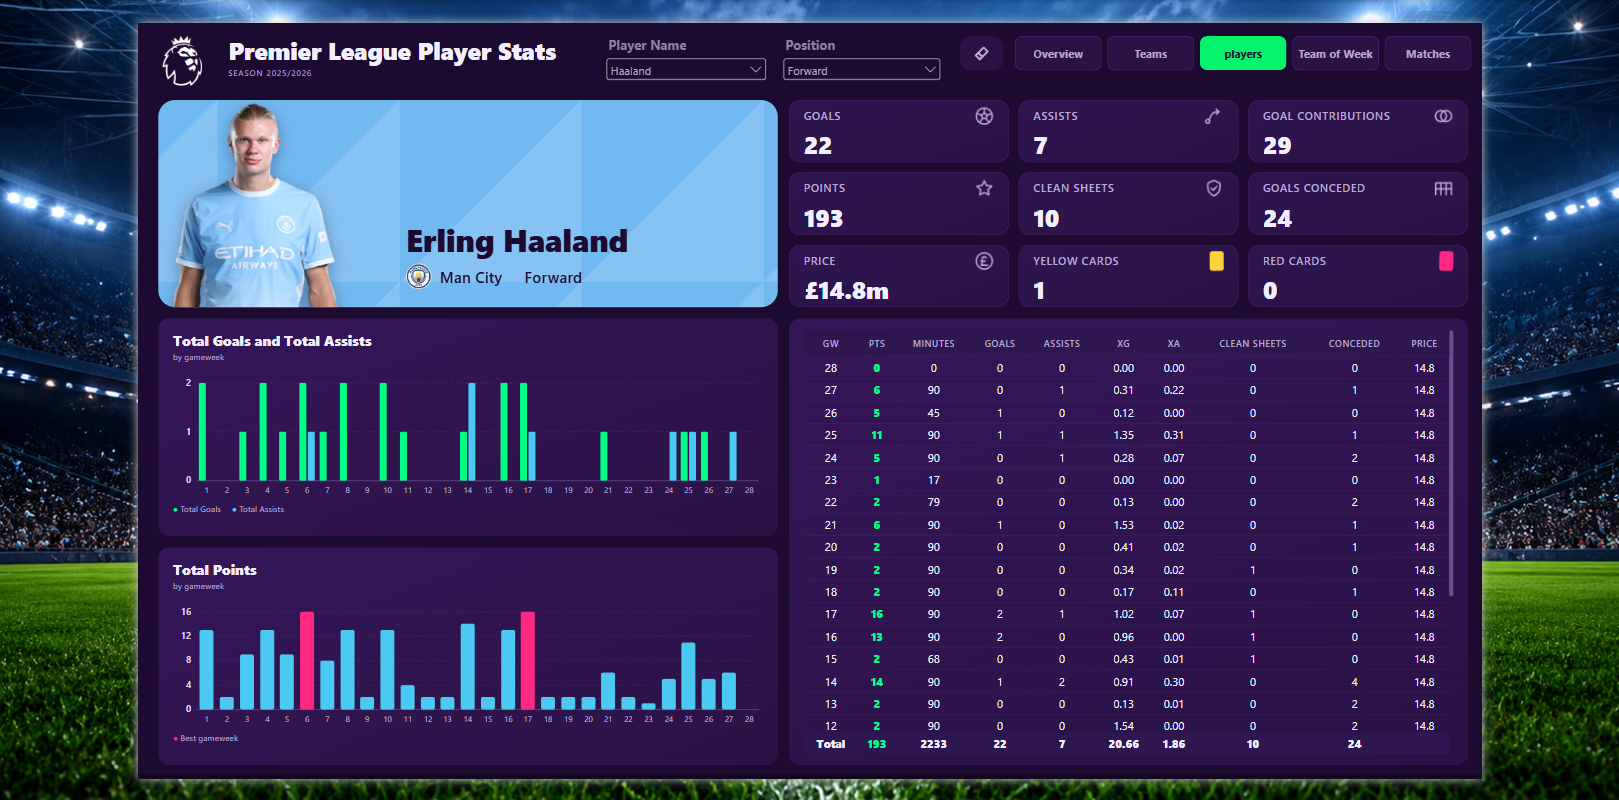

The dashboard page shown, as its layout file describes it:
{"tool":"powerbi","page":{"name":"players","canvas":[1920,1080],"ordinal":3},"visuals":[{"type":"htmlContent443BE3AD55E043BF878BED274D3A6855","fields":{"content":["Html.HTML Players Page 3"]},"box":[0,0,1919,1081],"z":0},{"type":"slicer","fields":{"Values":["Players Dim.Position"]},"box":[916.9,18.5,233.8,77.5],"z":1000},{"type":"slicer","fields":{"Values":["Players Dim.web_name"]},"box":[664.6,18.5,237.5,77.5],"z":2000},{"type":"actionButton","box":[1173.7,18.2,61.6,49.5],"z":4000},{"type":"image","box":[13.8,18.5,98.5,70.8],"z":5000},{"type":"pageNavigator","box":[1252.5,18.2,652,49],"z":6000}]}

Visuals, with their boxes on the page's 1920x1080 design canvas (x1, y1, x2, y2). These are canvas units, not pixel positions in the 1619x800 screenshot, which may show the page scaled, cropped or inside an application window:
htmlContent443BE3AD55E043BF878BED274D3A6855 - Html.HTML Players Page 3: [0,0,1919,1081]
slicer - Players Dim.Position: [917,18,1151,96]
slicer - Players Dim.web_name: [665,18,902,96]
actionButton: [1174,18,1235,68]
image: [14,18,112,89]
pageNavigator: [1252,18,1904,67]
